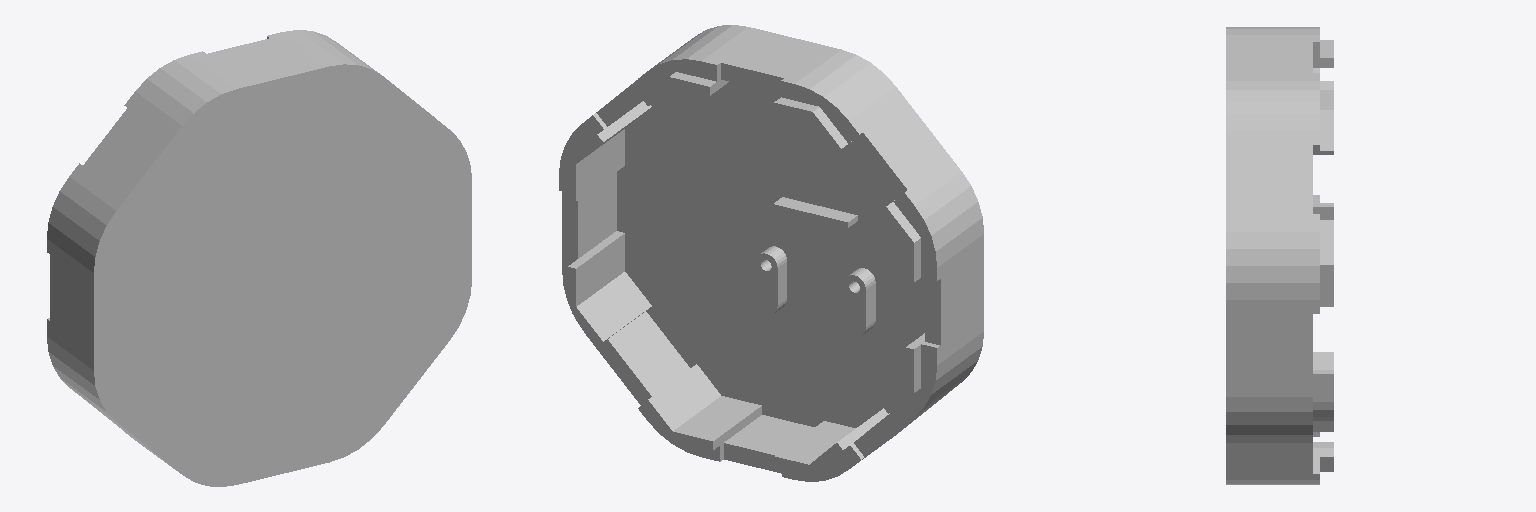
The model's file is hat.obj.
The picture shows the model from 3 angles: view 1: azimuth 30°, elevation 25°; view 2: azimuth 150°, elevation 25°; view 3: azimuth 270°, elevation 25°; orthographic projection.
Parts seen in each view (by area): view 1: ehat; view 2: ehat; view 3: ehat.
Boxes of the visible parts, x1,y1,x2,y2 form: ehat: [47, 30, 471, 486]; ehat: [559, 25, 983, 481]; ehat: [1226, 27, 1333, 484].
Size of the model in its own units: 0.0666 by 0.0666 by 0.0165.